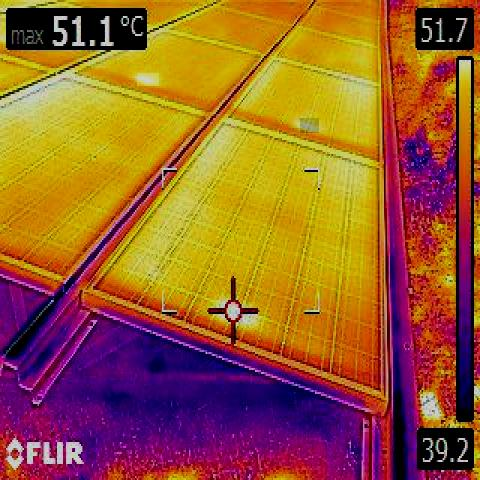fault: (137, 73, 159, 86), (300, 118, 319, 133)
